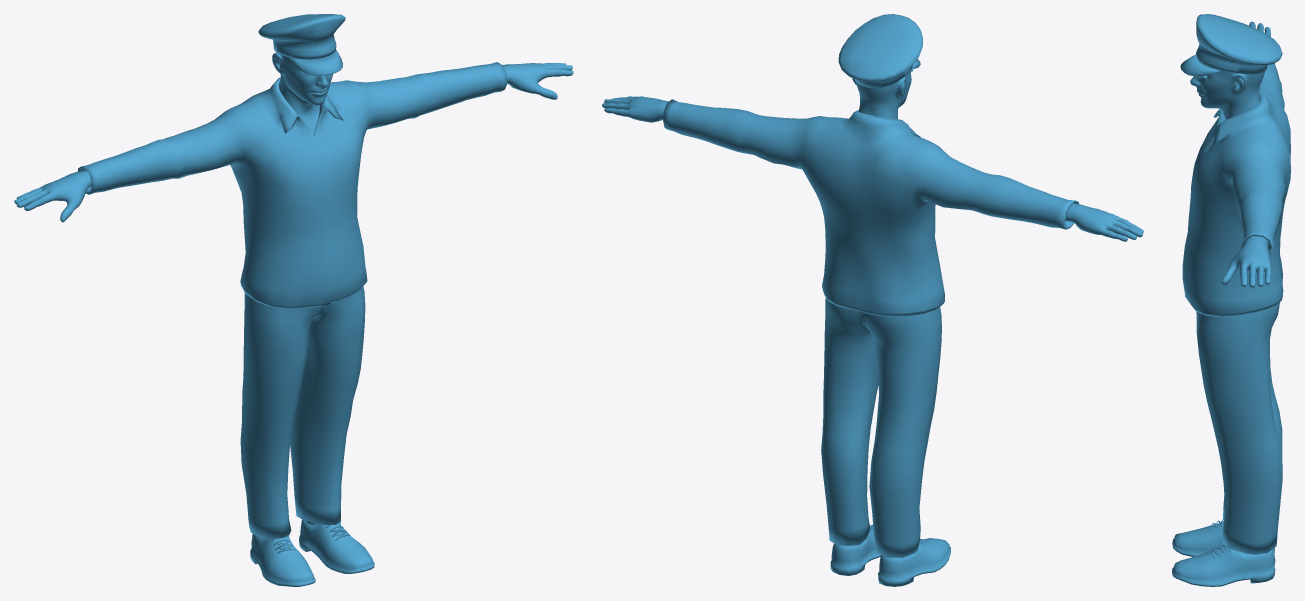
File: bohater.FBX
The picture shows the model from 3 angles, left to right: view 1: azimuth 30°, elevation 25°; view 2: azimuth 150°, elevation 25°; view 3: azimuth 270°, elevation 25°; orthographic projection. The views are drawn at different scales.
Parts seen in each view (by area): view 1: bohater; view 2: bohater; view 3: bohater.
Part boxes in pixels (left/top/right/bottom): bohater: left=14, top=14, right=573, bottom=586; bohater: left=602, top=14, right=1143, bottom=586; bohater: left=1172, top=14, right=1290, bottom=586.
Size of the model in its own units: 194 by 185 by 36.66.
